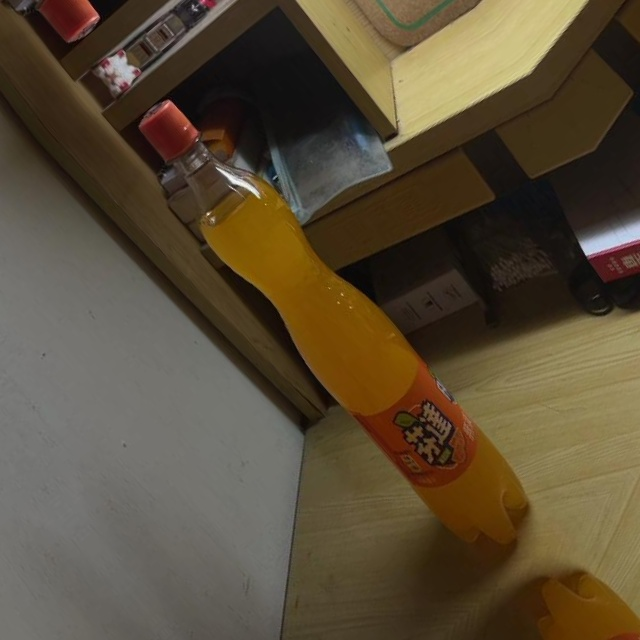Fanta: (113, 77, 553, 575)
